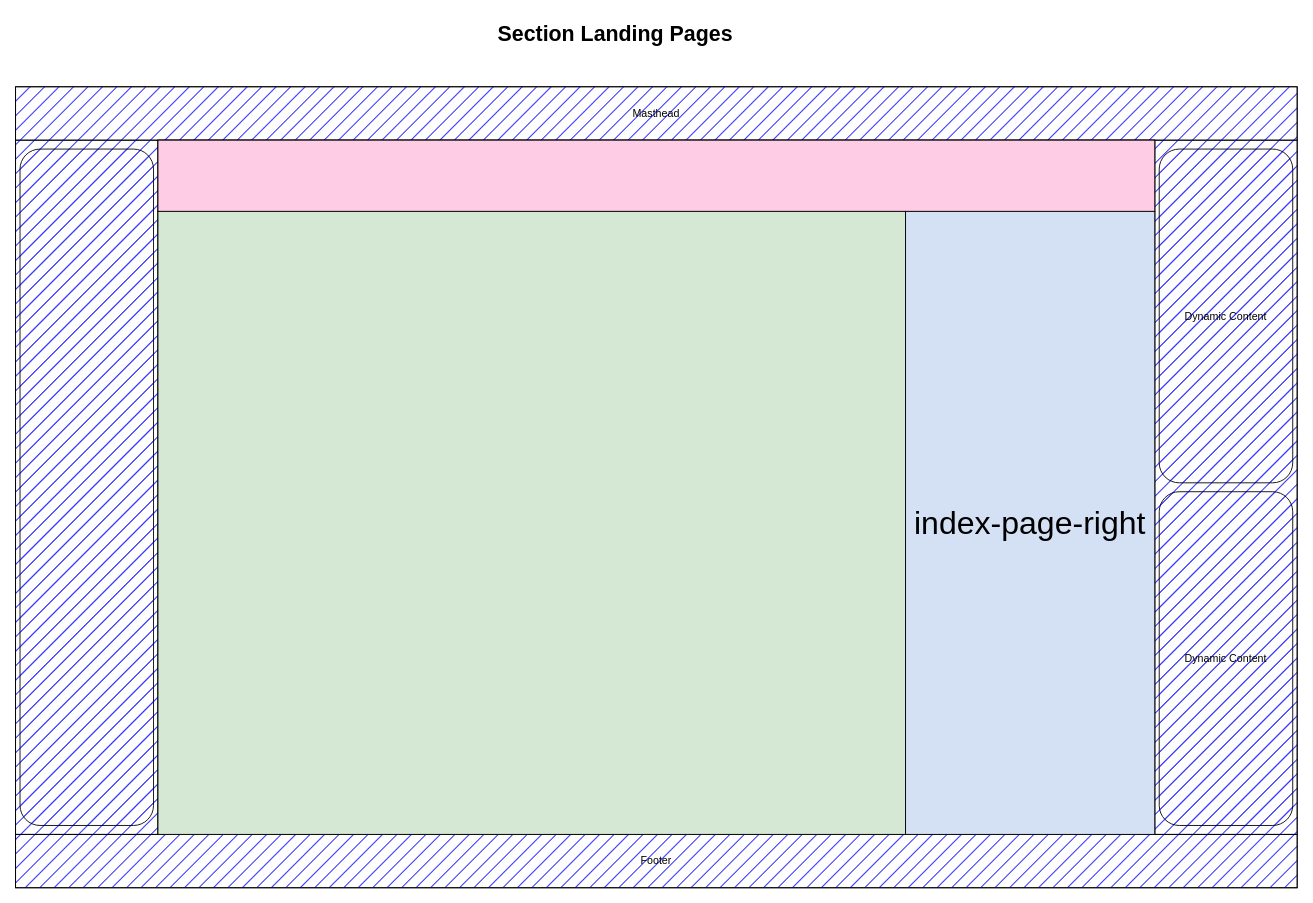
The diagram is 1313 pixels wide and 903 high, and some of its shapes have lost their labels. Here are the shapes that lost their labels. From the top down, the box of each, then its label:
(157, 139, 1155, 211): Area specific button drop menu
(19, 148, 154, 825): Persistent Menu
(157, 210, 906, 834): index-page-left
